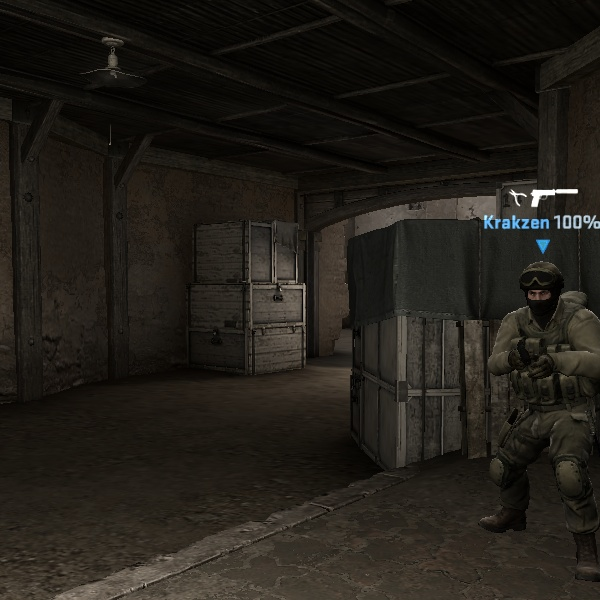ct_body: (465, 254, 600, 553)
ct_head: (509, 256, 577, 324)
